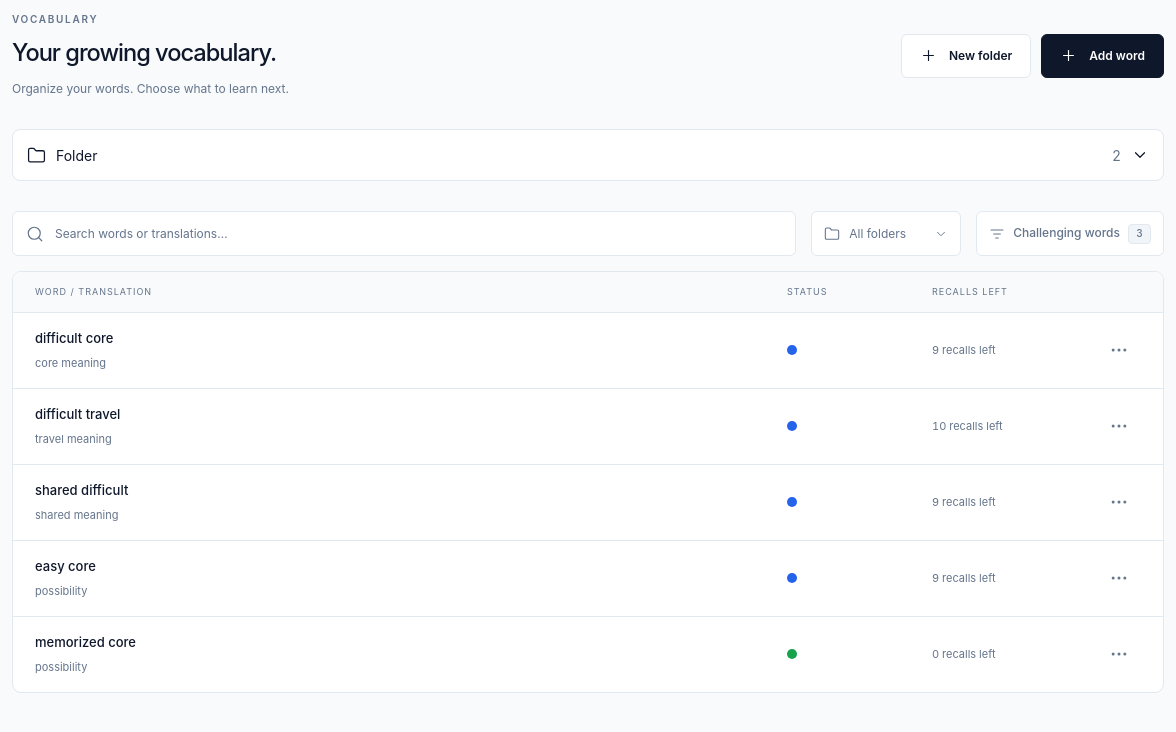
Test: offers all six actions in a keyboard-accessible menu and dismisses it without changing data
Click the button named "Word actions: difficult core". click: {"x": 1119, "y": 350}
box: [1097,328,1141,372]
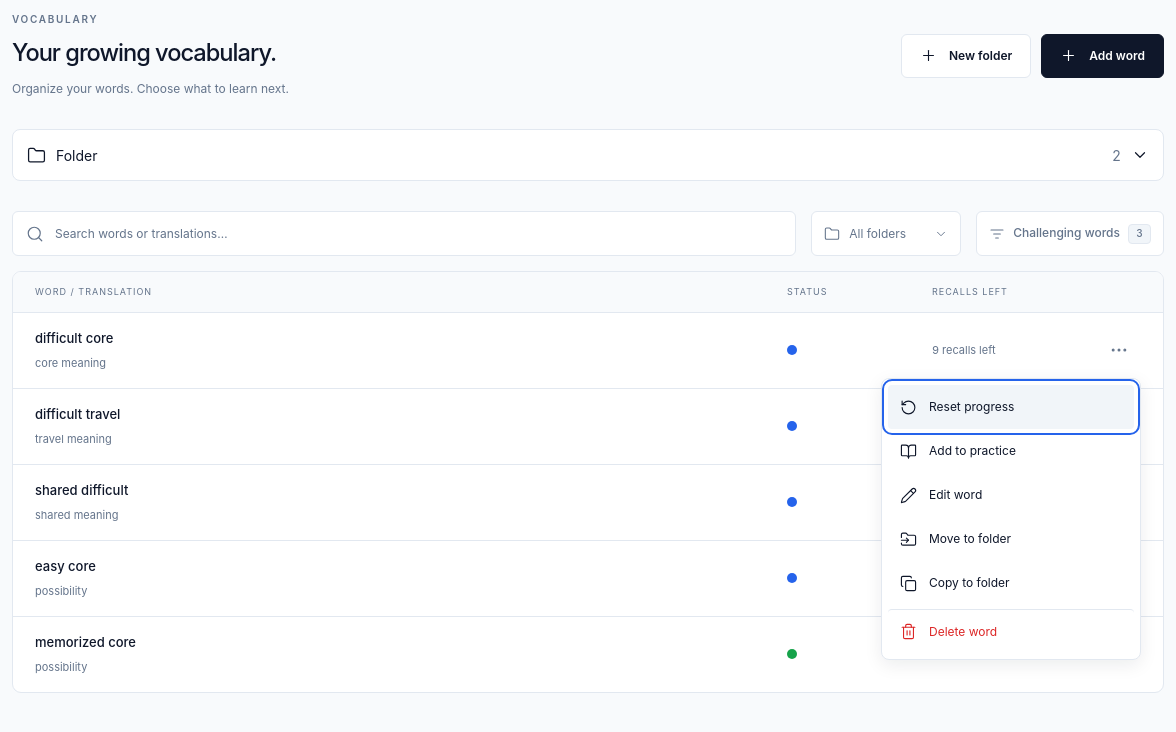
Press End in the menu item "Reset progress", box [888,385,1134,429]
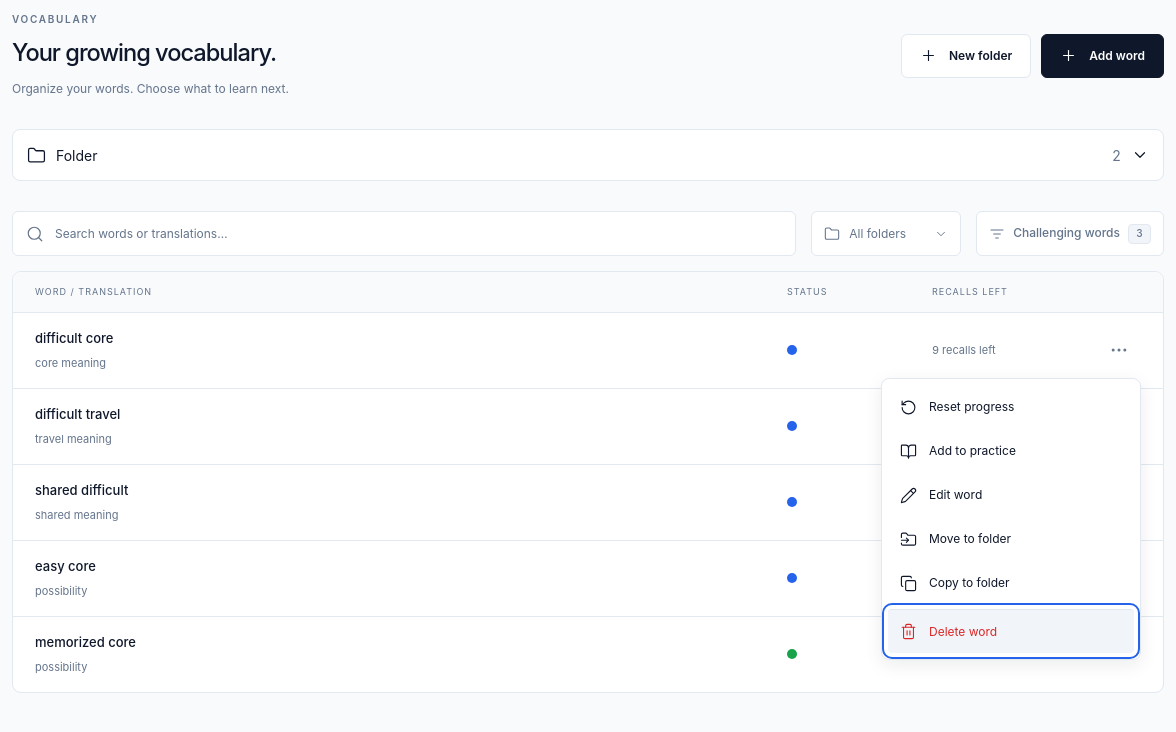
Press Escape in the menu item "Delete word", box [888,609,1134,653]
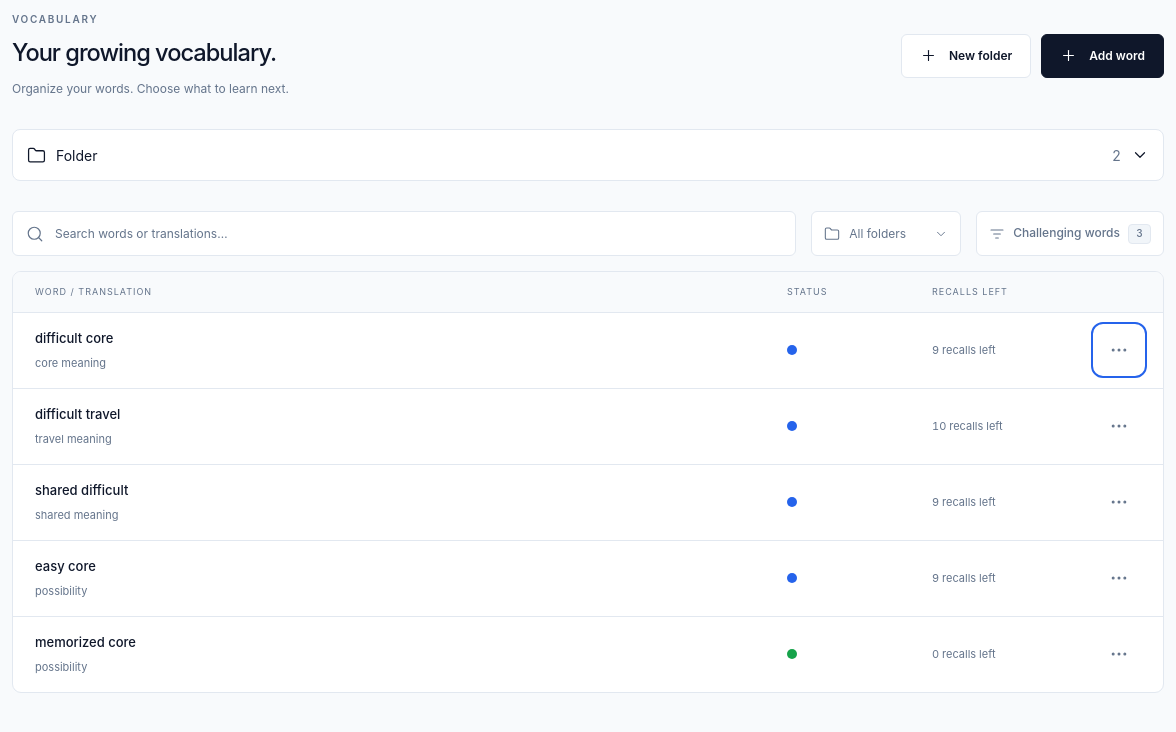
Expected: the menu is gone
Click the button named "Word actions: difficult core". click: {"x": 1119, "y": 350}
box: [1097,328,1141,372]
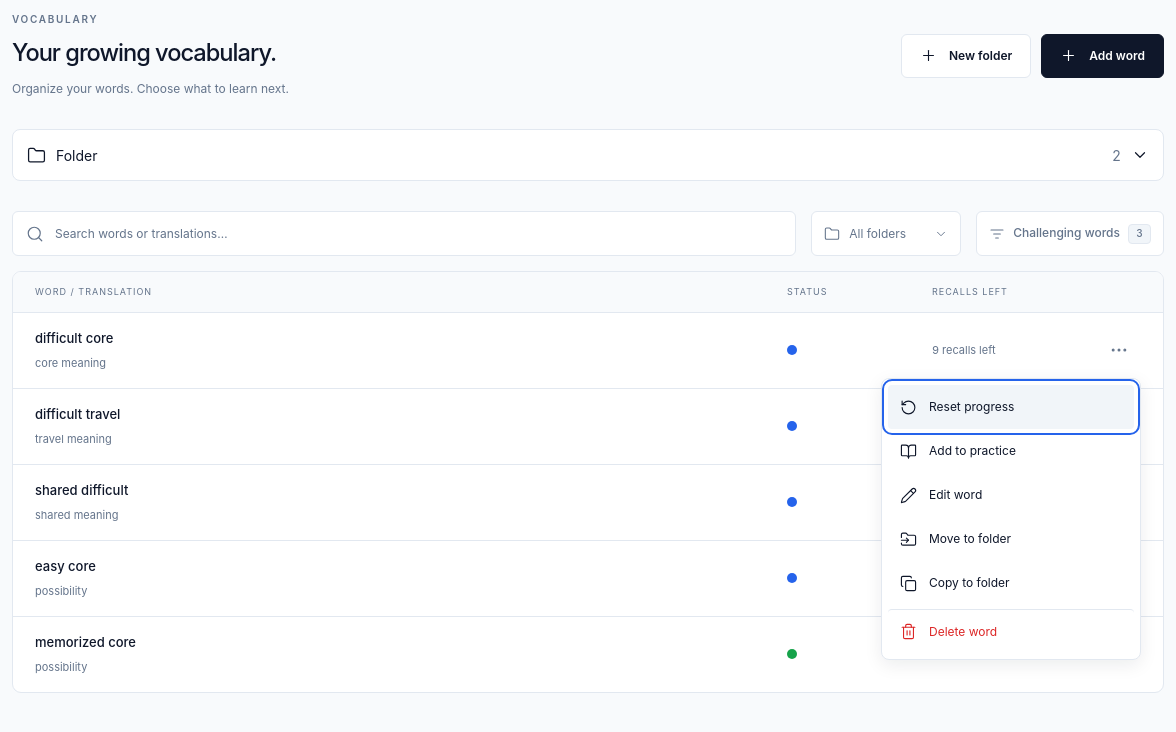
Press the mouse on the element that starts with "Vocabulary" at {"x": 588, "y": 352}, box [12,12,1164,693]
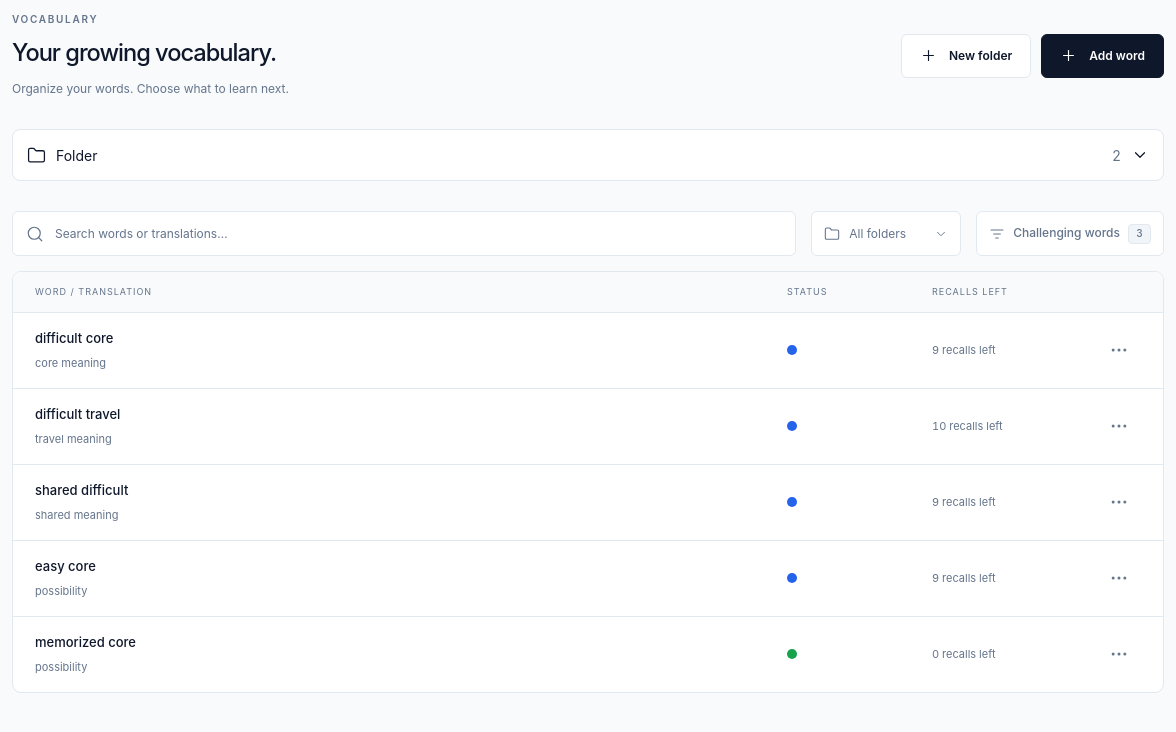
Expected: the menu is gone
